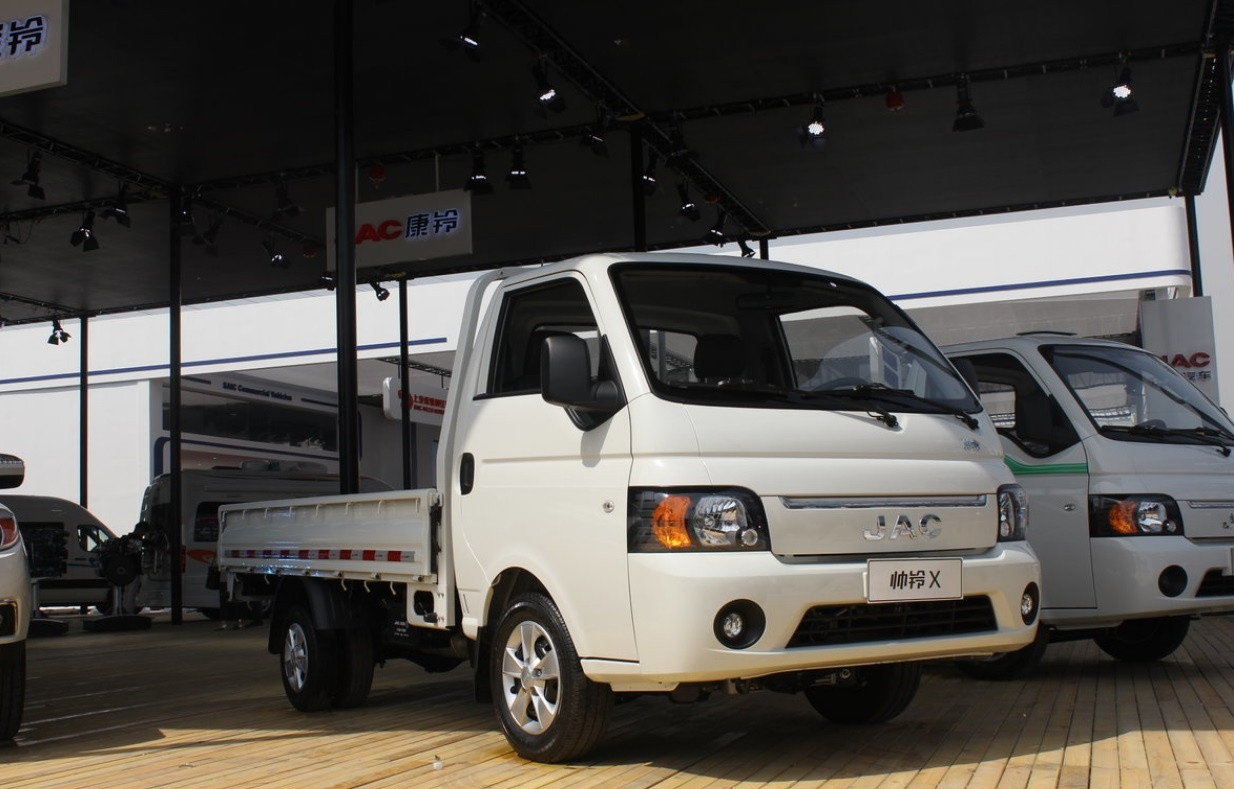truck: (205, 251, 1054, 740)
